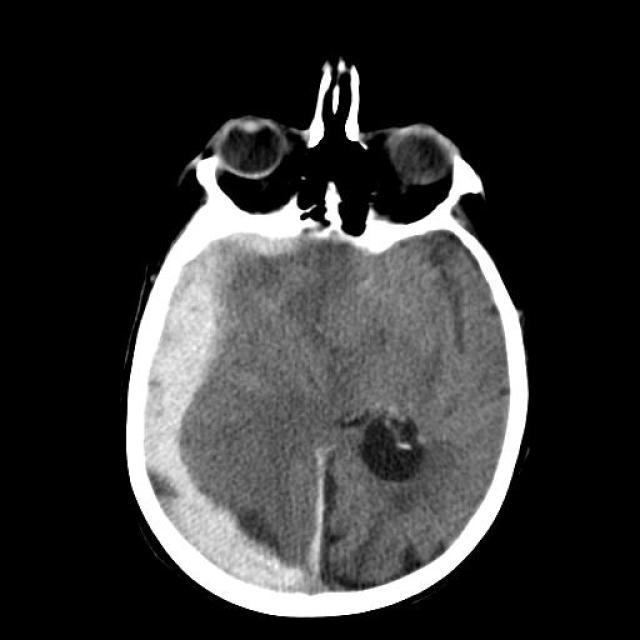Subdural: (102, 236, 296, 595), (284, 437, 346, 608)
